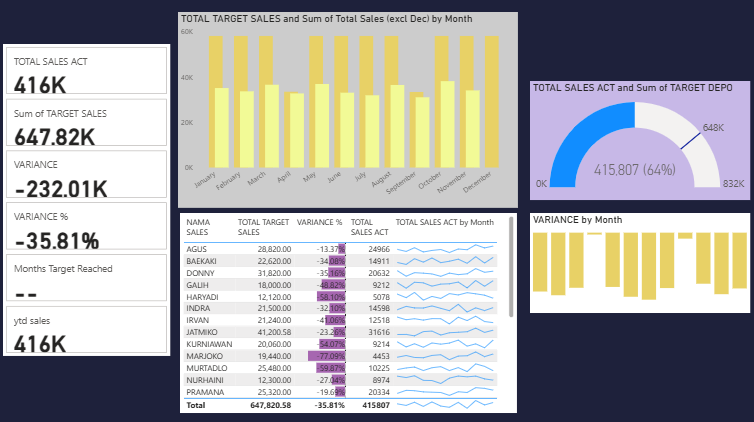

Layout of this report page (visuals, bound fields, positions):
{"tool":"powerbi","page":{"name":"target sales, depo","canvas":[1280,720],"ordinal":3},"visuals":[{"type":"cardVisual","fields":{"Data":["ACT.TOTAL SALES ACT","Sum(TARGET SALES.TARGET SALES )","ACT.VARIANCE","ACT.VARIANCE %","ACT.Months Target Reached","ACT.ytd sales"]},"box":[13.4,84,280.5,524.1],"z":0},{"type":"columnChart","fields":{"Y":["ACT.VARIANCE"],"Category":["CALENDER.Date.Variation.Date Hierarchy.Month"]},"box":[898.7,367.9,369.6,168],"z":1000},{"type":"clusteredColumnChart","fields":{"Category":["CALENDER.Date.Variation.Date Hierarchy.Month"],"Y":["TARGET SALES.TOTAL TARGET SALES","Sum(ACT.Total Sales (excl Dec))"]},"box":[307.4,30.2,571.1,329.2],"z":2000},{"type":"tableEx","fields":{"Values":["TARGET SALES.NAMA SALES","TARGET SALES.TOTAL TARGET SALES","ACT.VARIANCE %","ACT.TOTAL SALES ACT","SparklineData(ACT.TOTAL SALES ACT_[CALENDER.Date.Variation.Date Hierarchy.Month])"]},"box":[310.8,367.9,566.1,336],"z":3000},{"type":"gauge","fields":{"Y":["ACT.TOTAL SALES ACT"],"TargetValue":["Sum(TARGET DEPO.TARGET DEPO)"]},"box":[898.7,146.1,369.6,199.9],"z":4000}]}

Visuals, with their boxes in screenshot pixels (x1, y1, x2, y2), scaled from the page's 1280x720 canvas onto the 754x422 screenshot:
cardVisual - ACT.TOTAL SALES ACT x Sum(TARGET SALES.TARGET SALES ): [8, 49, 173, 356]
columnChart - ACT.VARIANCE x CALENDER.Date.Variation.Date Hierarchy.Month: [529, 216, 747, 314]
clusteredColumnChart - CALENDER.Date.Variation.Date Hierarchy.Month x TARGET SALES.TOTAL TARGET SALES: [181, 18, 517, 211]
tableEx - TARGET SALES.NAMA SALES x TARGET SALES.TOTAL TARGET SALES: [183, 216, 517, 413]
gauge - ACT.TOTAL SALES ACT x Sum(TARGET DEPO.TARGET DEPO): [529, 86, 747, 203]
